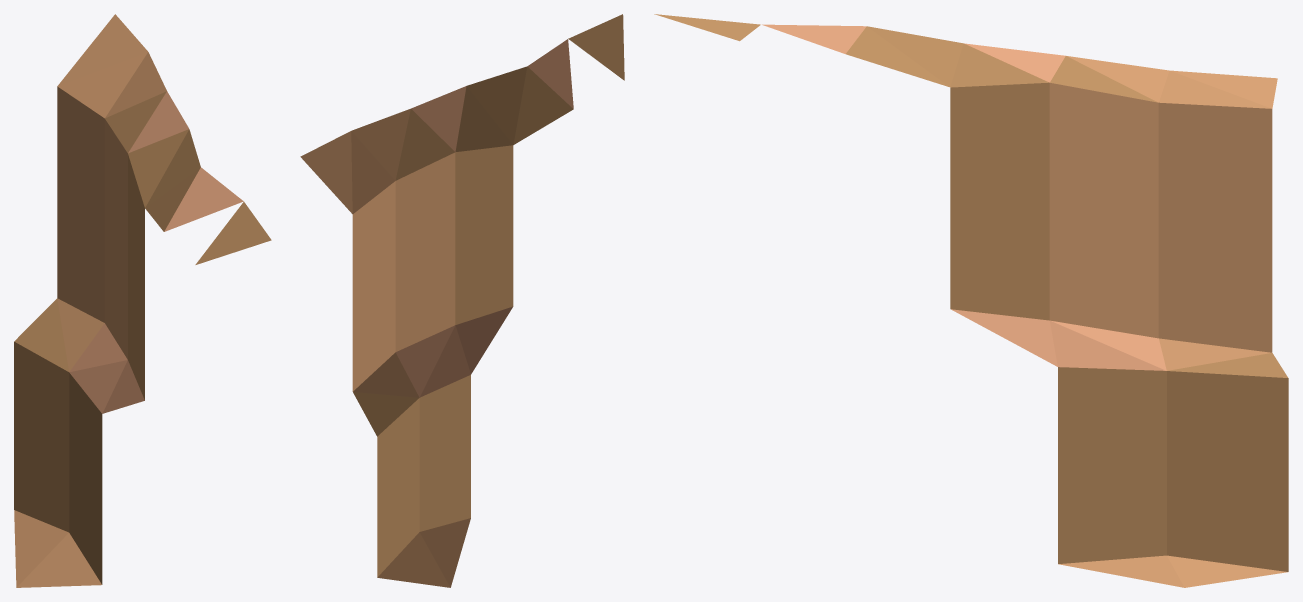
The picture shows the model from 3 angles, left to right: view 1: azimuth 30°, elevation 25°; view 2: azimuth 150°, elevation 25°; view 3: azimuth 270°, elevation 25°; orthographic projection. The views are drawn at different scales.
Parts seen in each view (by area): view 1: O2D832; view 2: O2D832; view 3: O2D832.
Part boxes in pixels (x1=…): O2D832: x1=14, y1=14, x2=271, y2=587; O2D832: x1=300, y1=14, x2=624, y2=587; O2D832: x1=654, y1=14, x2=1288, y2=587.
Bounding box in the file's own units: 19.55 × 62 × 60.69.
